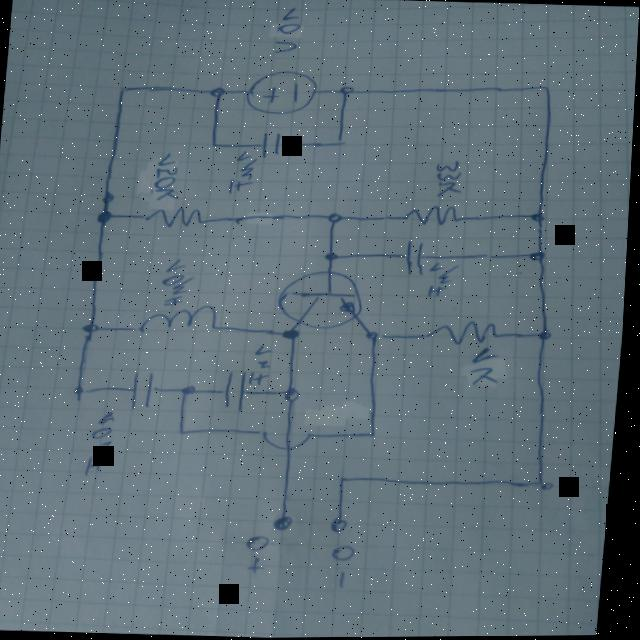capacitor: (132, 367, 161, 411), (224, 369, 252, 413), (402, 236, 427, 277), (259, 128, 283, 161)
crossover: (259, 426, 321, 454)
inductor: (134, 300, 227, 338)
junction: (534, 477, 560, 494), (94, 207, 116, 227), (325, 209, 349, 227), (281, 387, 305, 405), (363, 327, 386, 345), (282, 325, 306, 342), (528, 247, 550, 265), (534, 328, 557, 345), (337, 471, 359, 488), (206, 84, 228, 100), (362, 426, 385, 441), (179, 383, 202, 398), (328, 135, 349, 151), (81, 320, 103, 335), (336, 84, 358, 99), (527, 209, 548, 224), (321, 248, 341, 263), (178, 424, 198, 438), (74, 381, 92, 396), (117, 83, 134, 98), (534, 83, 552, 97), (208, 139, 224, 151)
resistor: (433, 319, 509, 349), (141, 205, 211, 231), (400, 202, 467, 229)
source: (242, 67, 322, 117)
terminal: (274, 513, 302, 536), (330, 514, 356, 537)
text: (87, 407, 122, 476), (160, 256, 199, 307), (269, 6, 303, 57), (227, 147, 261, 197), (330, 542, 364, 590), (152, 152, 184, 202), (470, 345, 507, 388), (246, 532, 279, 576), (433, 159, 467, 199), (427, 260, 460, 299), (250, 344, 277, 386)
transistor: (275, 267, 370, 333)
